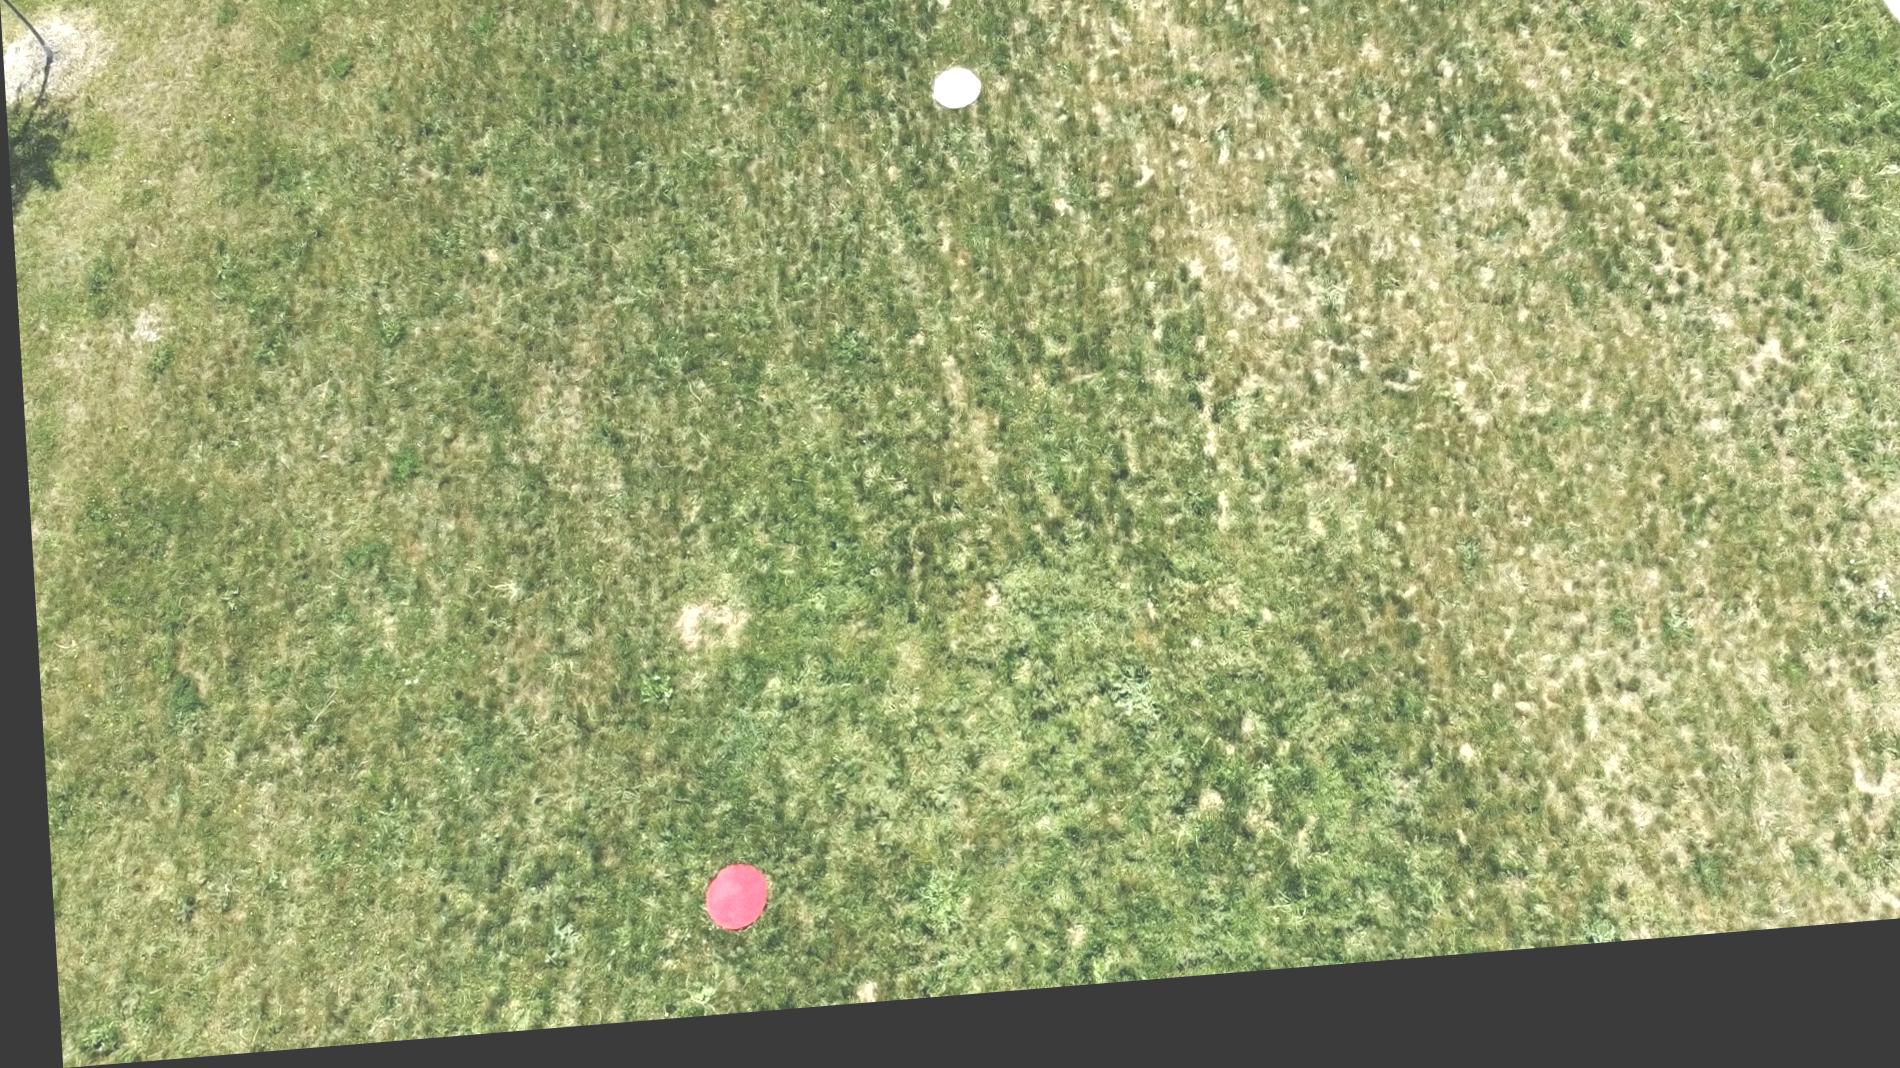Red: (688, 870, 758, 947)
Unknown: (927, 78, 985, 132)
